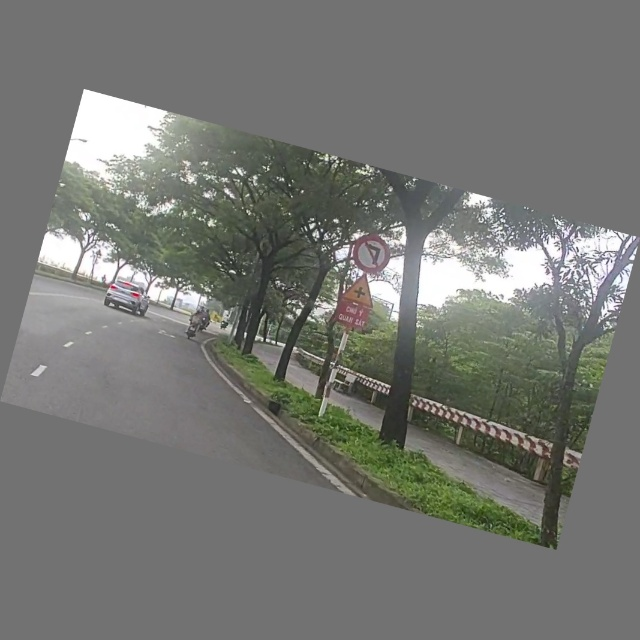P.123a: (343, 227, 405, 282)
W.205a: (338, 268, 387, 311)
